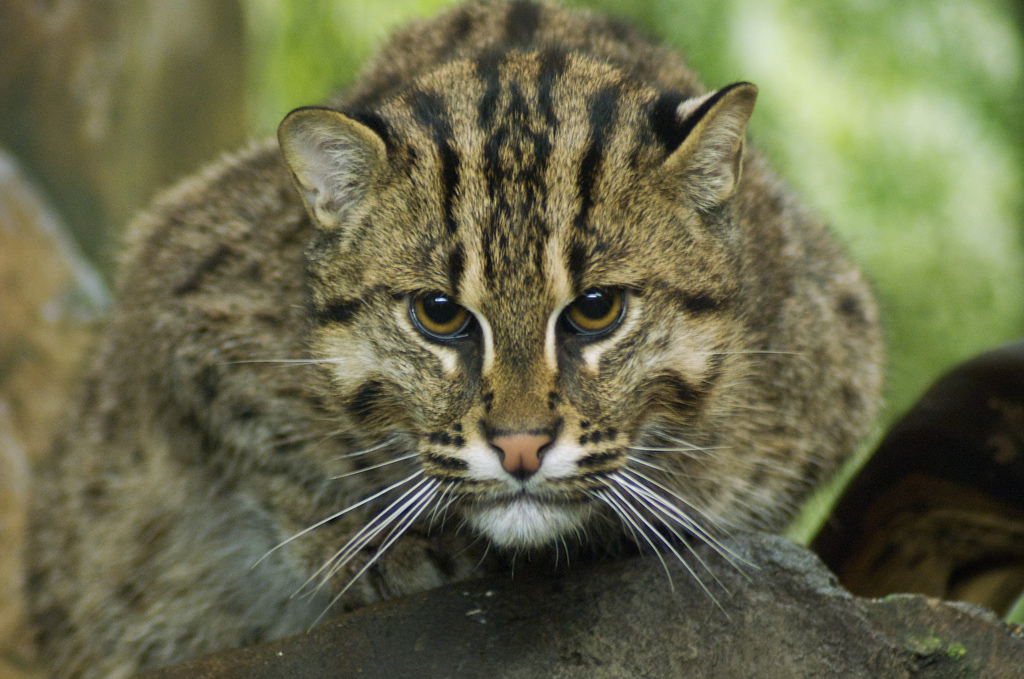cat: (1, 1, 920, 637)
